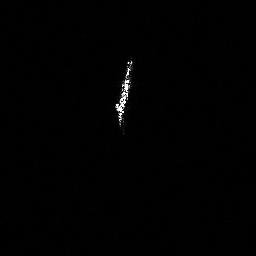ship: (112, 57, 134, 129)
